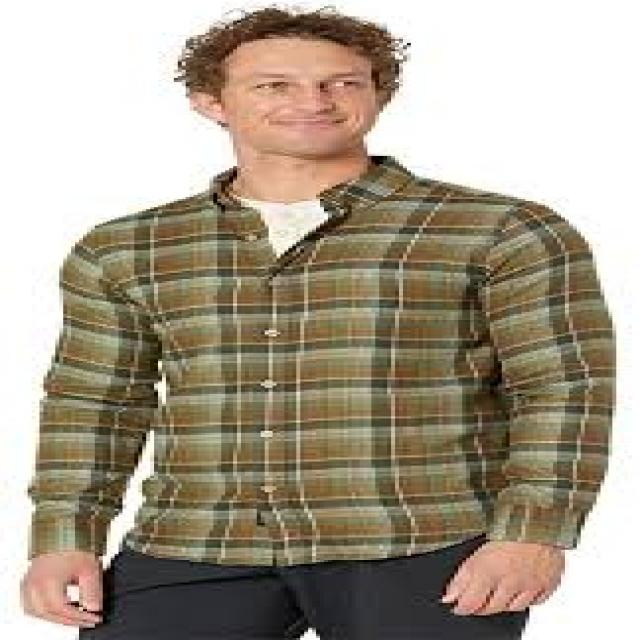plaid: (49, 161, 622, 560)
